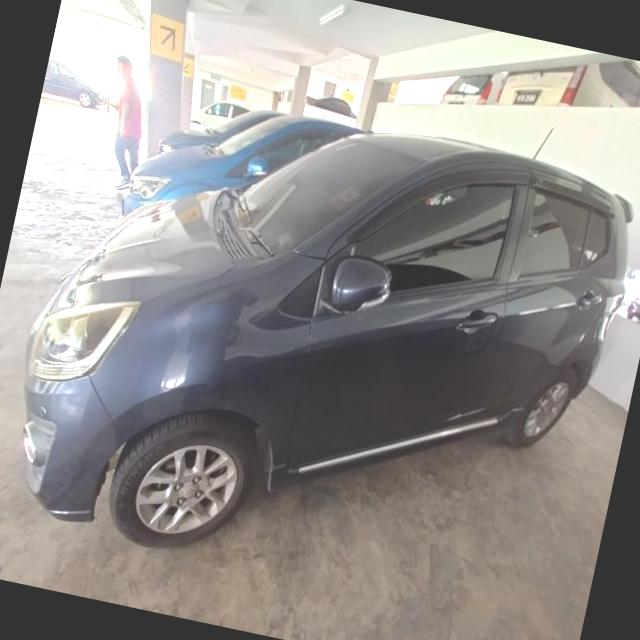PeroduaAxia: (0, 57, 640, 633)
